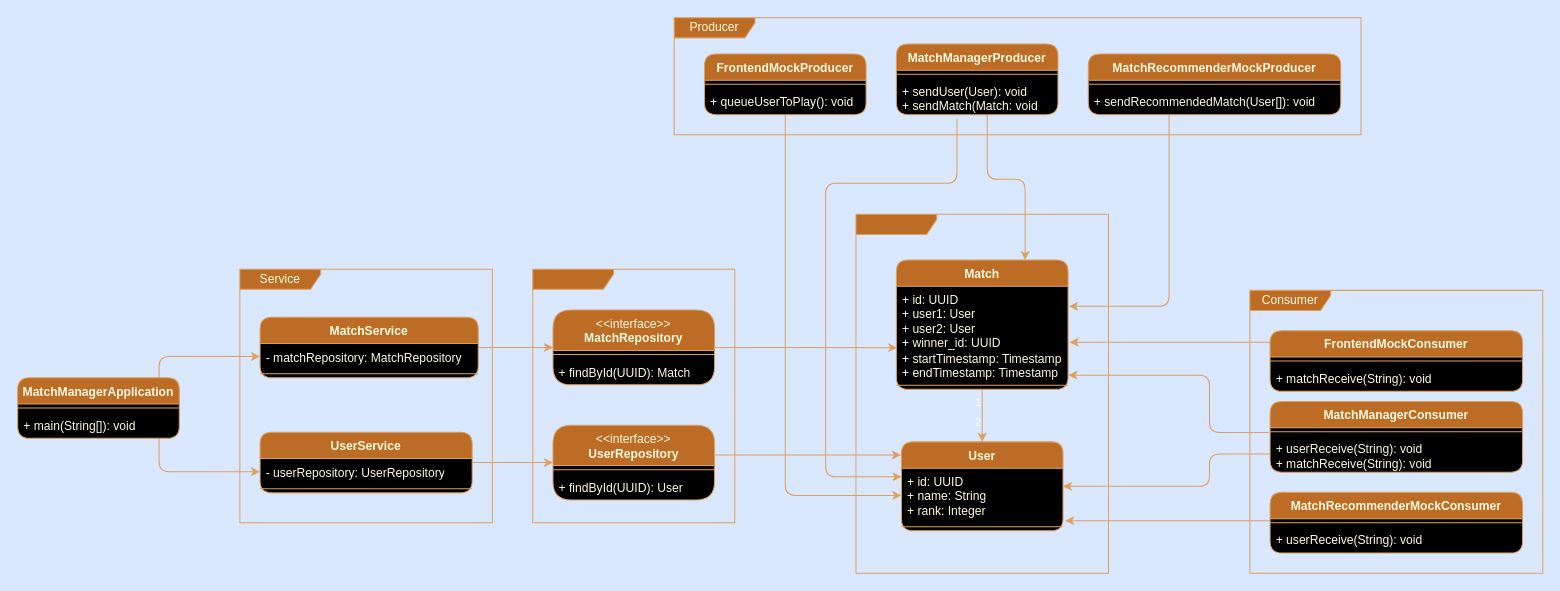
This 1560x591 diagram has some shape labels left out. Here are the shapes that lost their labels. From the top down, the centre of each, then its label:
At [633,395]: "Repository".
At [981,393]: "Entities".
